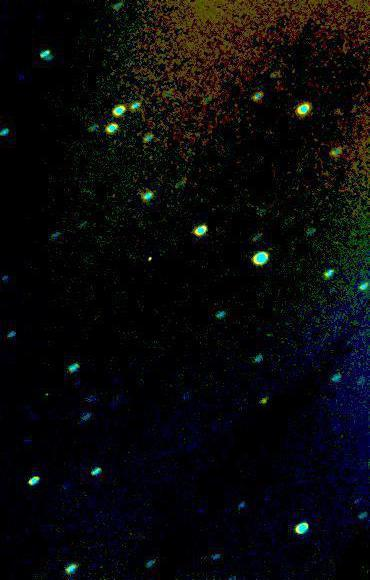star: (253, 384, 283, 414)
